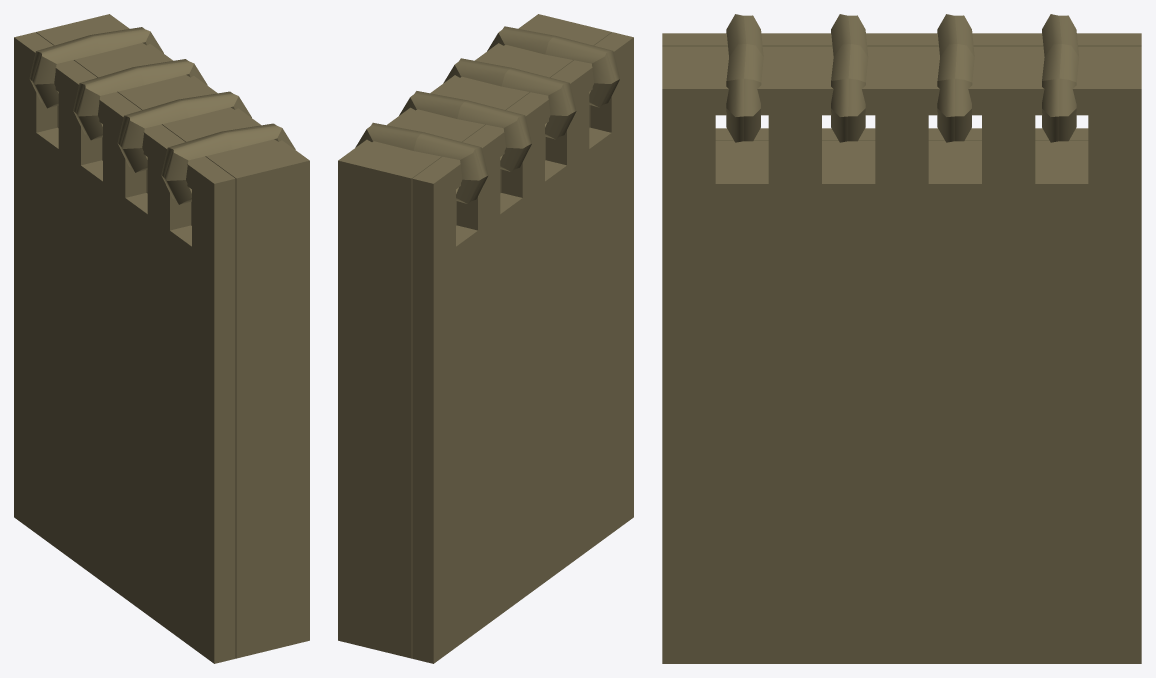
Rendered from notepad_grp.fbx.
3 views of the same model, side by side, from view 1: azimuth 30°, elevation 25°; view 2: azimuth 150°, elevation 25°; view 3: azimuth 270°, elevation 25° (orthographic). The views are drawn at different scales.
Parts seen in each view (by area): view 1: cardboard, paper, pTorus1, pTorus2, pTorus3, pTorus4; view 2: cardboard, paper, pTorus4, pTorus3, pTorus2, pTorus1; view 3: paper, cardboard, pTorus1, pTorus3, pTorus2, pTorus4.
Boxes of the visible parts, x1,y1,x2,y2 form: cardboard: (14, 32, 235, 663); paper: (36, 14, 309, 658); pTorus1: (161, 123, 295, 204); pTorus2: (117, 91, 251, 172); pTorus3: (73, 59, 207, 140); pTorus4: (29, 27, 163, 108); cardboard: (412, 32, 633, 663); paper: (338, 14, 611, 658); pTorus4: (355, 122, 488, 203); pTorus3: (399, 91, 531, 171); pTorus2: (443, 58, 576, 139); pTorus1: (487, 26, 619, 107); paper: (662, 46, 1141, 663); cardboard: (662, 33, 1141, 140); pTorus1: (726, 14, 763, 142); pTorus3: (937, 14, 974, 142); pTorus2: (831, 14, 868, 142); pTorus4: (1042, 14, 1079, 142).
Bounding box in the file's own units: 1.5 × 5.48 × 4.03.
